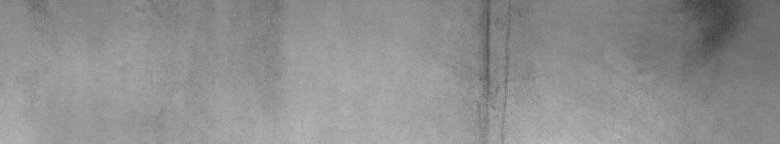ka: (476, 4, 528, 128)
